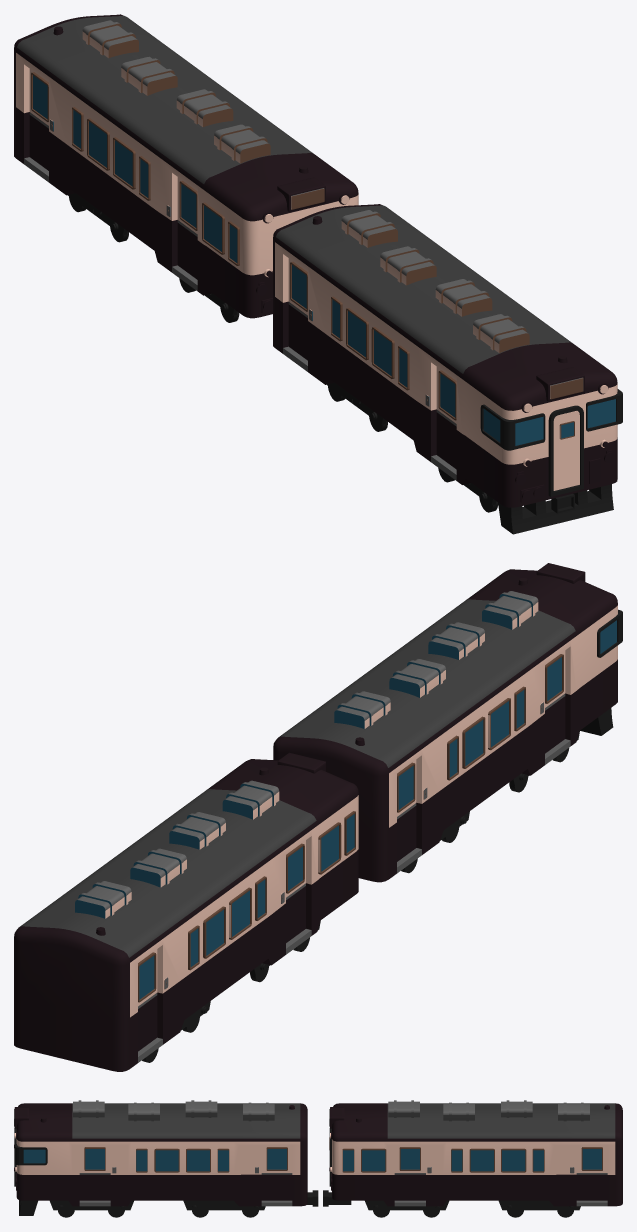
File: train3.FBX
The picture shows the model from 3 angles, top to bottom: view 1: azimuth 30°, elevation 25°; view 2: azimuth 150°, elevation 25°; view 3: azimuth 270°, elevation 25°; orthographic projection. The views are drawn at different scales.
Parts seen in each view (by area): view 1: Object002; view 2: Object002; view 3: Object002.
Boxes of the visible parts, x1,y1,x2,y2 form: Object002: [14, 14, 622, 534]; Object002: [14, 563, 622, 1071]; Object002: [14, 1100, 622, 1217].
Size of the model in its own units: 41.11 by 54.76 by 301.
